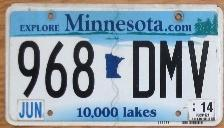6: (43, 39, 69, 99)
8: (71, 38, 96, 99)
9: (16, 40, 43, 97)
D: (131, 39, 156, 100)
M: (159, 39, 184, 99)
V: (185, 38, 213, 99)
